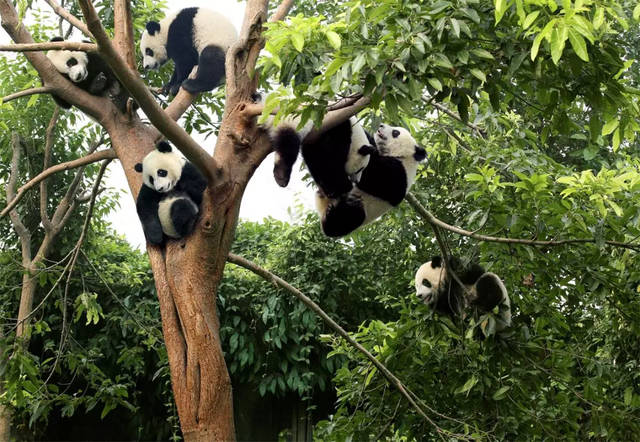panda: (131, 4, 265, 110), (123, 139, 240, 253), (247, 92, 376, 187), (399, 245, 532, 336), (347, 118, 437, 234), (39, 42, 135, 110)
